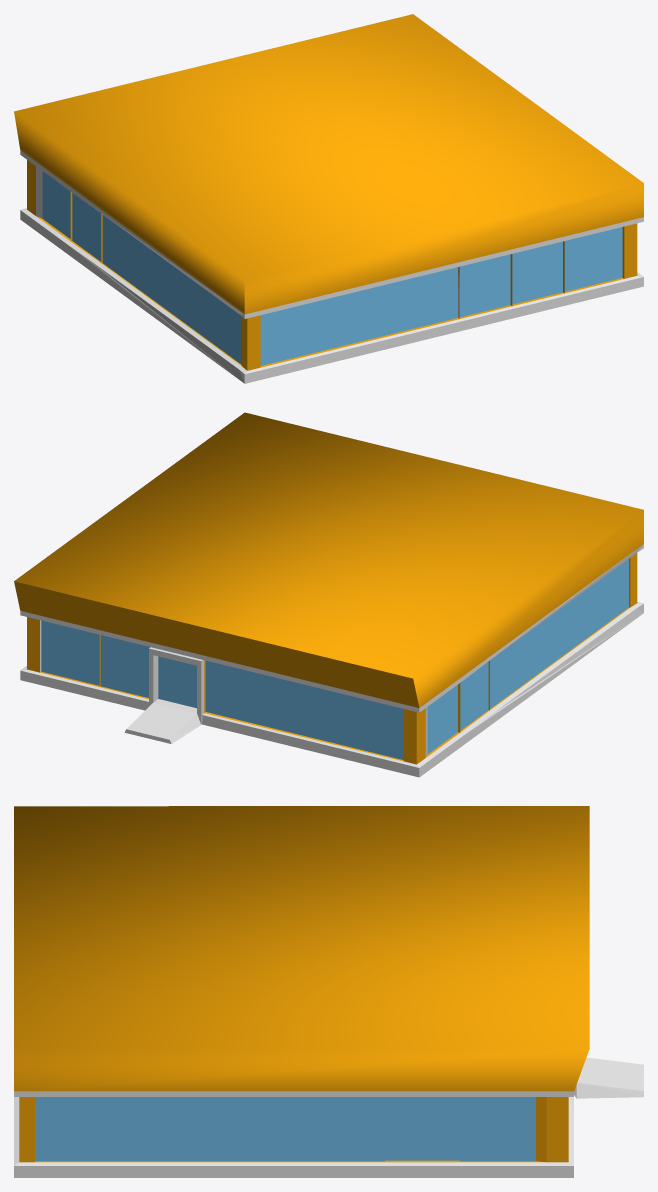
File: Shop8x8x1Orange.fbx
3 renders of one model, top to bottom at view 1: azimuth 30°, elevation 25°; view 2: azimuth 150°, elevation 25°; view 3: azimuth 270°, elevation 25°, orthographic. The views are drawn at different scales.
Parts seen in each view (by area): view 1: Shop.001; view 2: Shop.001; view 3: Shop.001.
Part boxes in pixels (box(x1,y1,x2,y2)): Shop.001: box(14, 14, 643, 383); Shop.001: box(14, 412, 643, 777); Shop.001: box(14, 806, 643, 1177).
Bounding box in the file's own units: 4.02 × 0.9949 × 4.4.
Materials: 1 (1 with a texture image).
